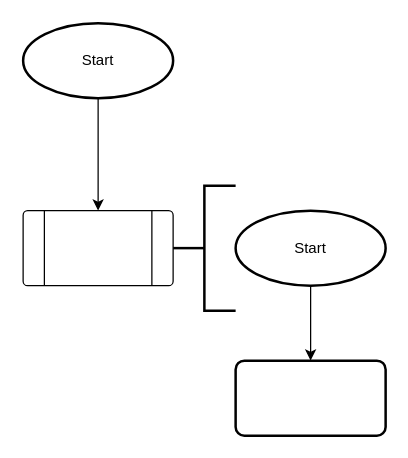
The diagram is 408 pixels wide and 458 high, and some of its shapes have lost their labels. The shapes that lost their labels are listed below. From the top down, each one's box as (x1, y1, x2, y2) in pixels, then its label:
(22, 209, 173, 286): Call SplashScreen() method
(234, 359, 386, 436): Beep twice (Sound.twoBeeps())
